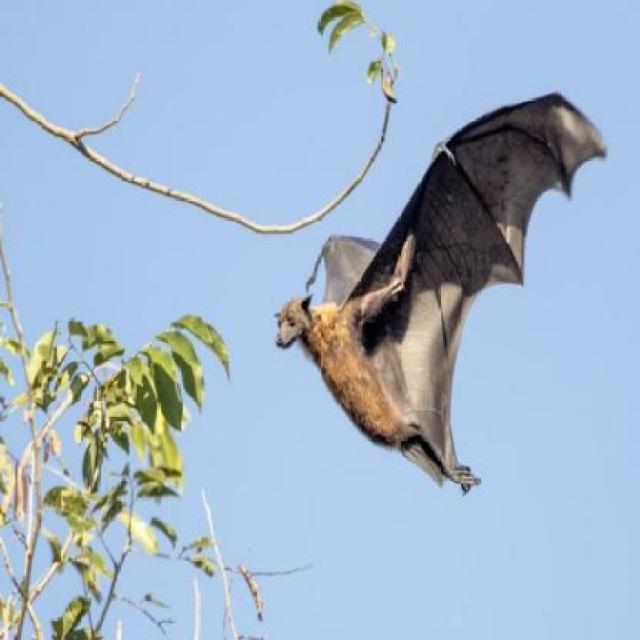Bat: (270, 80, 610, 487)
